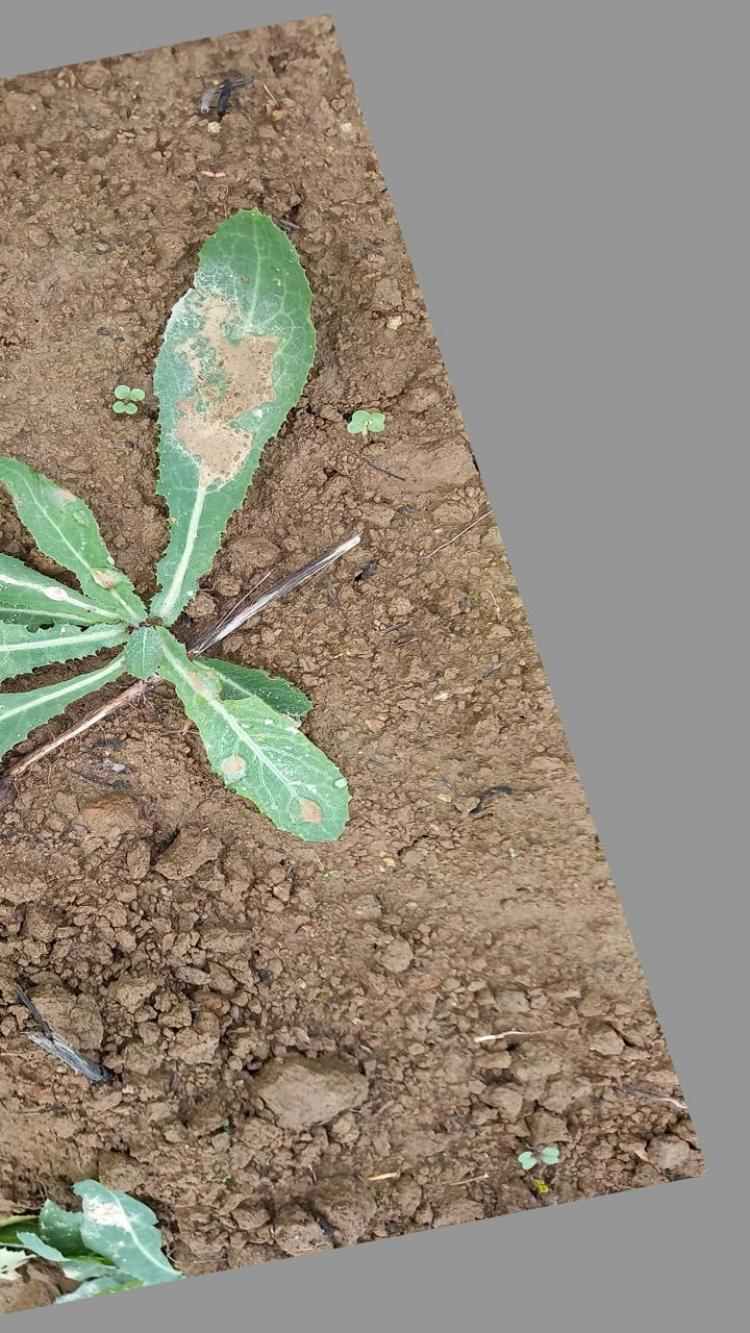osot: (0, 198, 348, 846)
